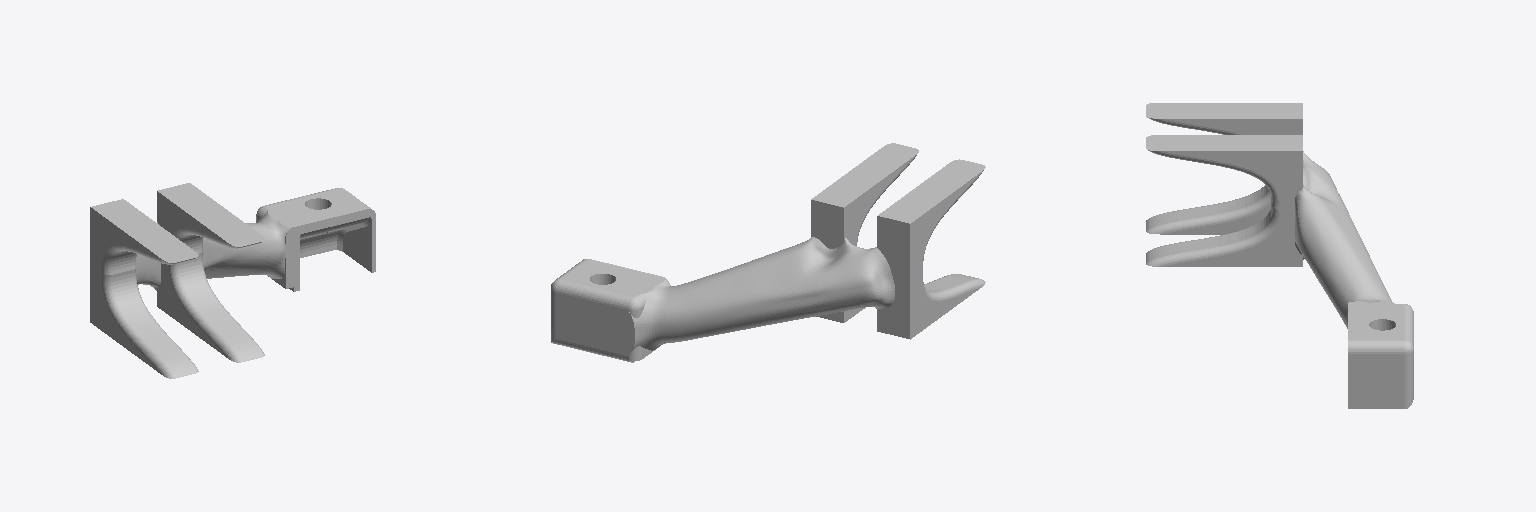
File: gripper_modification_right.obj
The picture shows the model from 3 angles: view 1: azimuth 30°, elevation 25°; view 2: azimuth 150°, elevation 25°; view 3: azimuth 270°, elevation 25°; orthographic projection.
Parts seen in each view (by area): view 1: greifer_challange_v2_correct; view 2: greifer_challange_v2_correct; view 3: greifer_challange_v2_correct.
Part boxes in pixels (x1,y1,x2,y2): greifer_challange_v2_correct: (90,183,375,378); greifer_challange_v2_correct: (551,143,985,362); greifer_challange_v2_correct: (1146,103,1413,408).
Size of the model in its own units: 69.66 by 33.79 by 52.52.